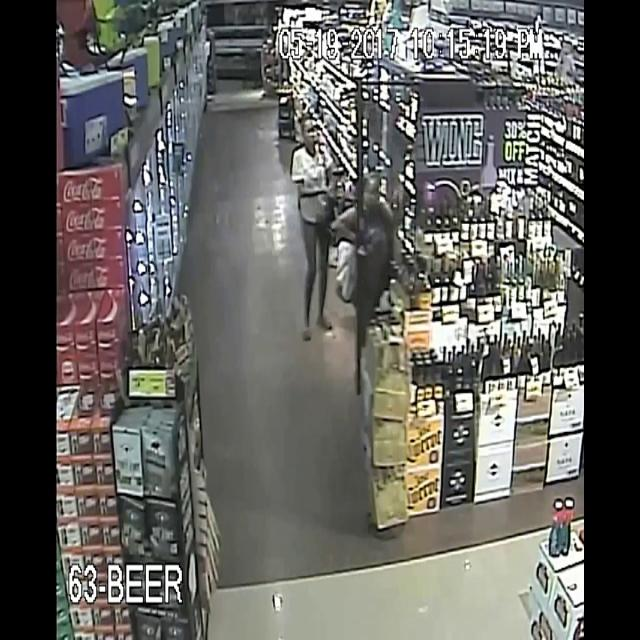Product: (387, 178, 407, 218)
normal: (279, 111, 342, 304)
shoplifting: (335, 129, 415, 401)
